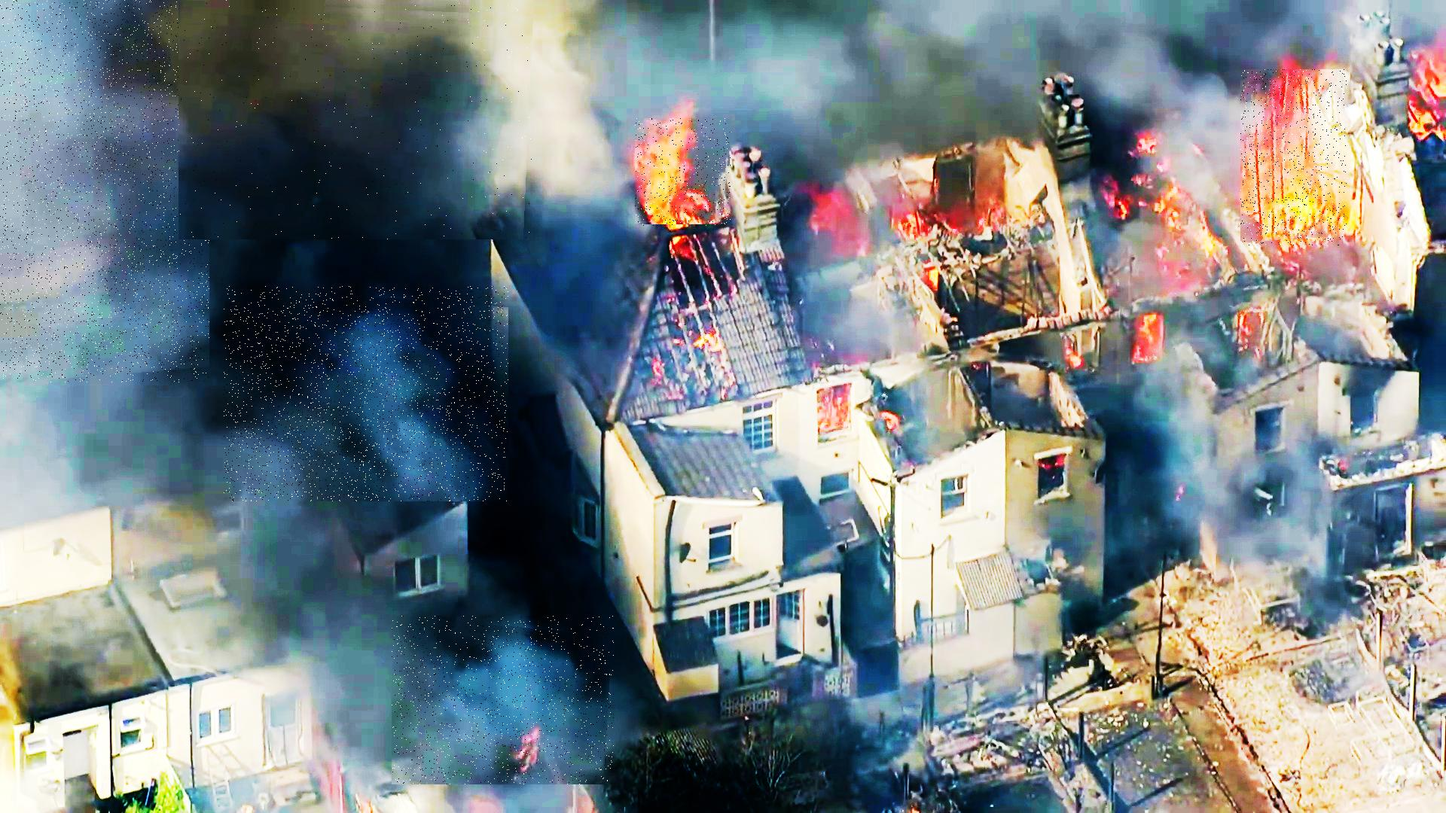fire: (1241, 70, 1347, 246), (635, 119, 731, 226)
smoke: (179, 0, 533, 239), (0, 0, 209, 382), (224, 286, 509, 502), (392, 616, 614, 784)
